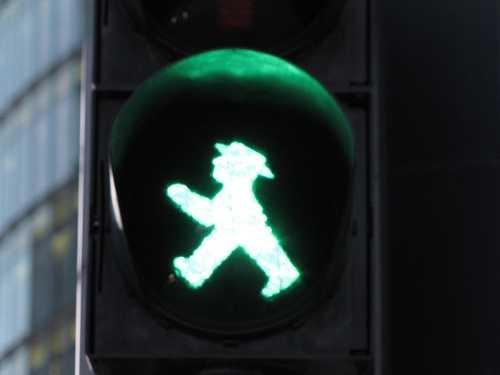green: (127, 49, 342, 329)
